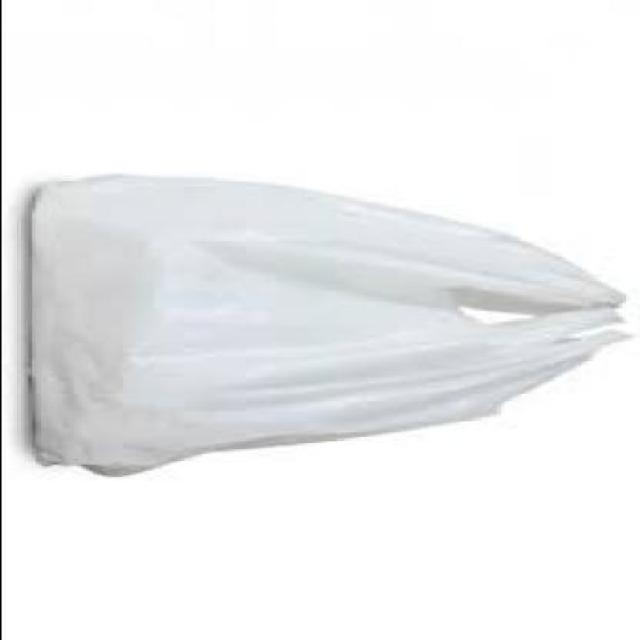PLASTIC: (31, 173, 632, 473)
